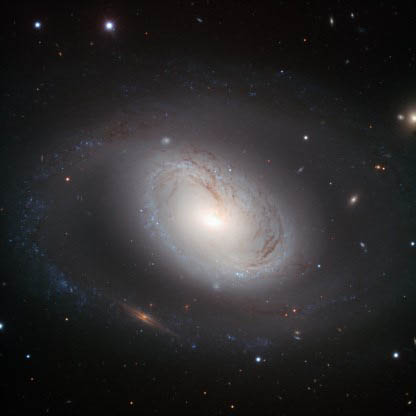Messier 96: (12, 47, 416, 377)
